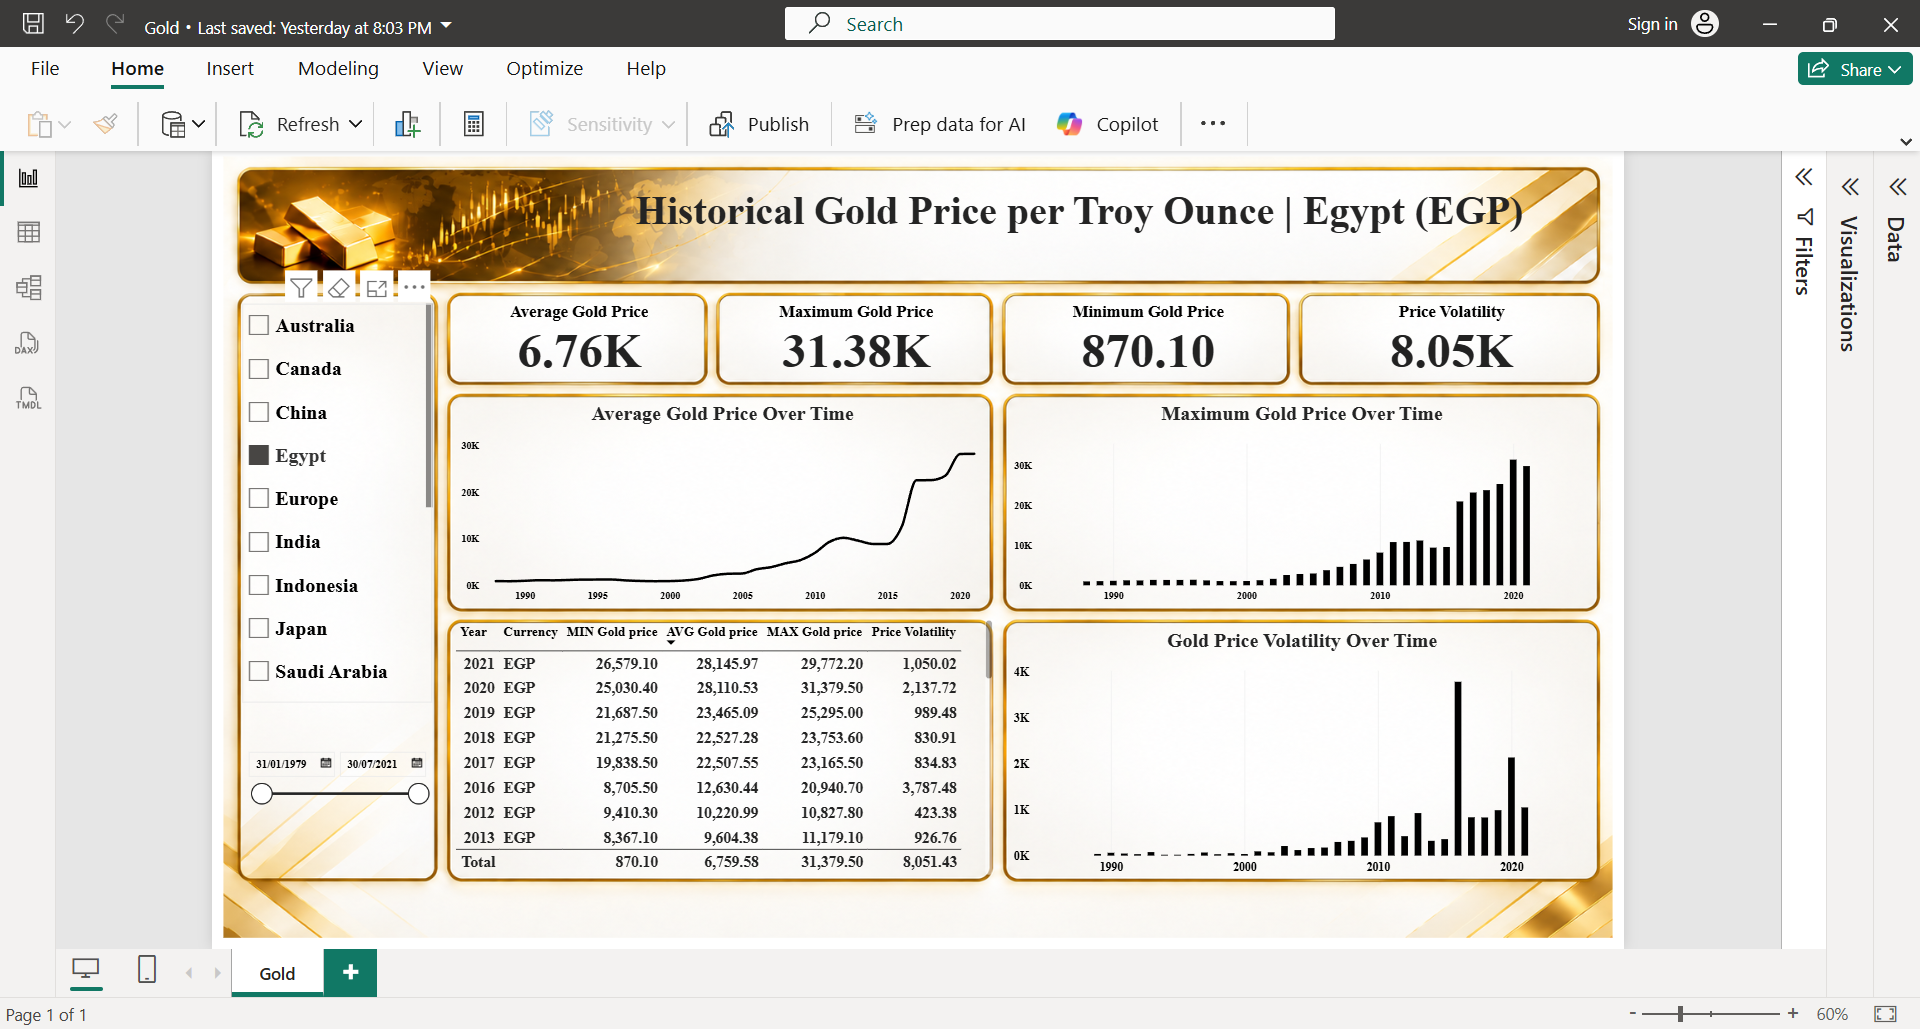

This screenshot's page, from the dashboard's own definition file:
{"tool":"powerbi","page":{"name":"Page 1","canvas":[1700,960],"ordinal":0},"visuals":[{"type":"cardVisual","fields":{"Data":["1979-2021.AVG Gold price"]},"box":[286.1,172.1,311.5,114.1],"z":0},{"type":"cardVisual","fields":{"Data":["1979-2021.MAX Gold price"]},"box":[610.3,172.1,329.6,114.1],"z":1000},{"type":"cardVisual","fields":{"Data":["1979-2021.MIN Gold price"]},"box":[952.6,172.1,347.7,114.1],"z":2000},{"type":"cardVisual","fields":{"Data":["1979-2021.Price Volatility"]},"box":[1314.8,172.1,356.8,114.1],"z":3000},{"type":"lineChart","title":"Average Gold Price Over Time","fields":{"Category":["1979-2021.Date.Variation.Date Hierarchy.Year","1979-2021.Date.Variation.Date Hierarchy.Quarter","1979-2021.Date.Variation.Date Hierarchy.Month","1979-2021.Date.Variation.Date Hierarchy.Day"],"Y":["1979-2021.AVG Gold price"]},"box":[300,302.2,630,243.3],"z":4000},{"type":"slicer","fields":{"Values":["1979-2021.Country"]},"box":[36.4,184.1,229,479.5],"z":5000},{"type":"clusteredColumnChart","title":"Gold Price Volatility Over Time","fields":{"Category":["1979-2021.Date.Variation.Date Hierarchy.Year","1979-2021.Date.Variation.Date Hierarchy.Quarter","1979-2021.Date.Variation.Date Hierarchy.Month","1979-2021.Date.Variation.Date Hierarchy.Day"],"Y":["1979-2021.Price Volatility"]},"box":[964.3,575.7,694.3,297.1],"z":6000},{"type":"tableEx","fields":{"Values":["1979-2021.Date.Variation.Date Hierarchy.Year","1979-2021.Currency","1979-2021.MIN Gold price","1979-2021.AVG Gold price","1979-2021.MAX Gold price","1979-2021.Price Volatility"]},"box":[293.3,565,646.7,306.7],"z":7000},{"type":"slicer","fields":{"Values":["1979-2021.Date"]},"box":[36.7,718.3,228.3,93.3],"z":8000},{"type":"clusteredColumnChart","title":"Maximum Gold Price Over Time","fields":{"Category":["1979-2021.Date.Variation.Date Hierarchy.Year","1979-2021.Date.Variation.Date Hierarchy.Quarter","1979-2021.Date.Variation.Date Hierarchy.Month","1979-2021.Date.Variation.Date Hierarchy.Day"],"Y":["1979-2021.MAX Gold price"]},"box":[964.3,302.9,694.3,242.9],"z":9000},{"type":"textbox","box":[415,45,1257.5,127.5],"z":10000}]}

Visuals, with their boxes on the page's 1700x960 design canvas (x1, y1, x2, y2). These are canvas units, not pixel positions in the 1920x1029 screenshot, which may show the page scaled, cropped or inside an application window:
cardVisual - 1979-2021.AVG Gold price: box=[286, 172, 598, 286]
cardVisual - 1979-2021.MAX Gold price: box=[610, 172, 940, 286]
cardVisual - 1979-2021.MIN Gold price: box=[953, 172, 1300, 286]
cardVisual - 1979-2021.Price Volatility: box=[1315, 172, 1672, 286]
"Average Gold Price Over Time" lineChart: box=[300, 302, 930, 546]
slicer - 1979-2021.Country: box=[36, 184, 265, 664]
"Gold Price Volatility Over Time" clusteredColumnChart: box=[964, 576, 1659, 873]
tableEx - 1979-2021.Date.Variation.Date Hierarchy.Year x 1979-2021.Currency: box=[293, 565, 940, 872]
slicer - 1979-2021.Date: box=[37, 718, 265, 812]
"Maximum Gold Price Over Time" clusteredColumnChart: box=[964, 303, 1659, 546]
textbox: box=[415, 45, 1672, 172]
